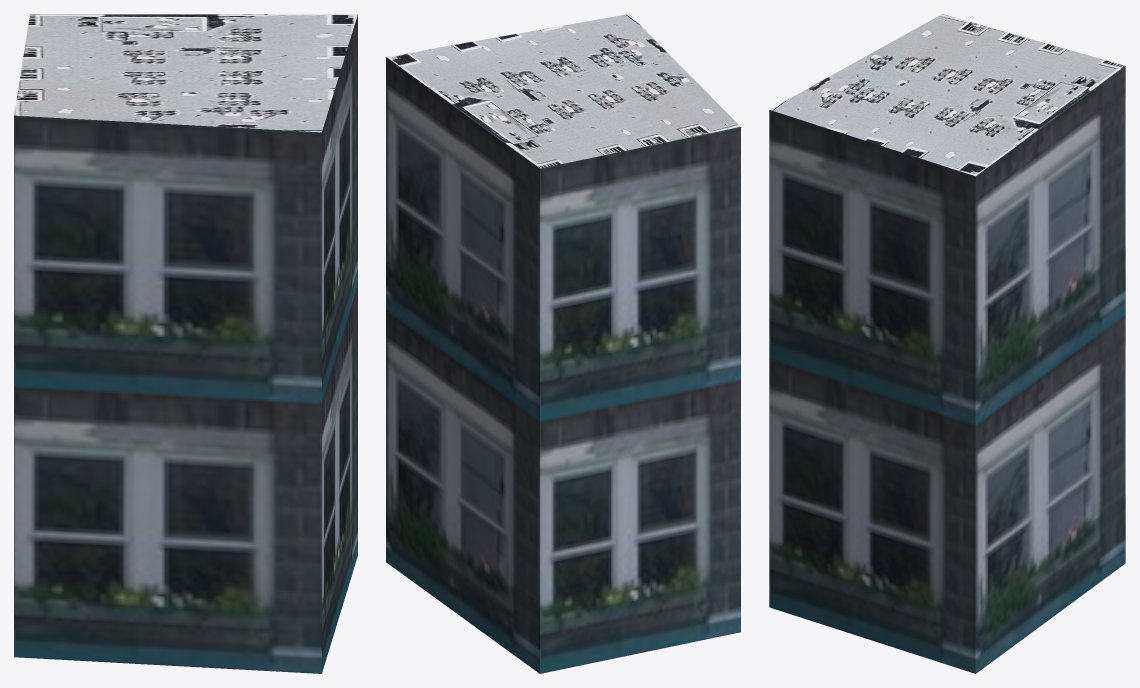
Rendered from ResTex__5104.fbx.
3 renders of one model, left to right at view 1: azimuth 30°, elevation 25°; view 2: azimuth 150°, elevation 25°; view 3: azimuth 270°, elevation 25°, orthographic. The views are drawn at different scales.
Visible parts, largest first — view 1: CityEngineMaterial_11_m, CityEngineMaterial_4_m; view 2: CityEngineMaterial_11_m, CityEngineMaterial_4_m; view 3: CityEngineMaterial_11_m, CityEngineMaterial_4_m.
Part boxes in pixels (<box>): CityEngineMaterial_11_m: <box>14,15,357,673</box>; CityEngineMaterial_4_m: <box>14,14,357,132</box>; CityEngineMaterial_11_m: <box>386,57,740,673</box>; CityEngineMaterial_4_m: <box>386,14,740,168</box>; CityEngineMaterial_11_m: <box>769,66,1125,673</box>; CityEngineMaterial_4_m: <box>769,14,1124,176</box>.
Size of the model in its own units: 4.2 by 6 by 3.89.
2 materials, 2 textured.
